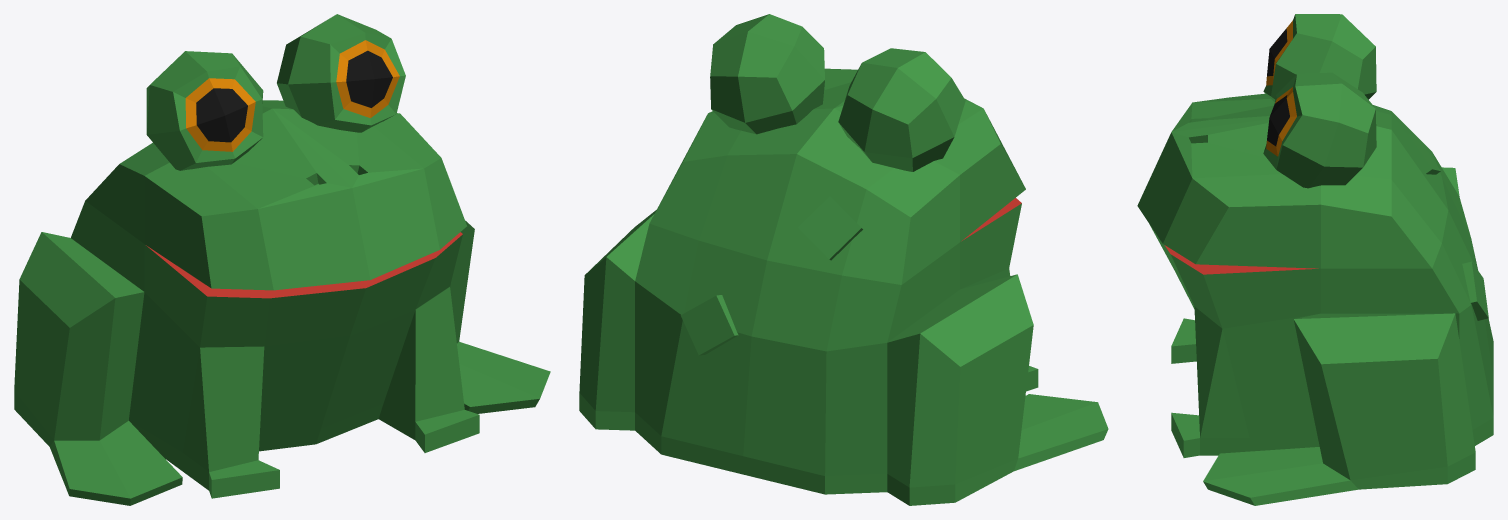
File: Frog_01.fbx
3 views of the same model, side by side, from view 1: azimuth 30°, elevation 25°; view 2: azimuth 150°, elevation 25°; view 3: azimuth 270°, elevation 25° (orthographic). The views are drawn at different scales.
Visible parts, largest first — view 1: Frog_01; view 2: Frog_01; view 3: Frog_01.
Boxes of the visible parts, x1=… form: Frog_01: x1=14, y1=14, x2=550, y2=505; Frog_01: x1=579, y1=14, x2=1108, y2=505; Frog_01: x1=1137, y1=14, x2=1493, y2=505.
Bounding box in the file's own units: 6.69 × 4.94 × 4.58.
